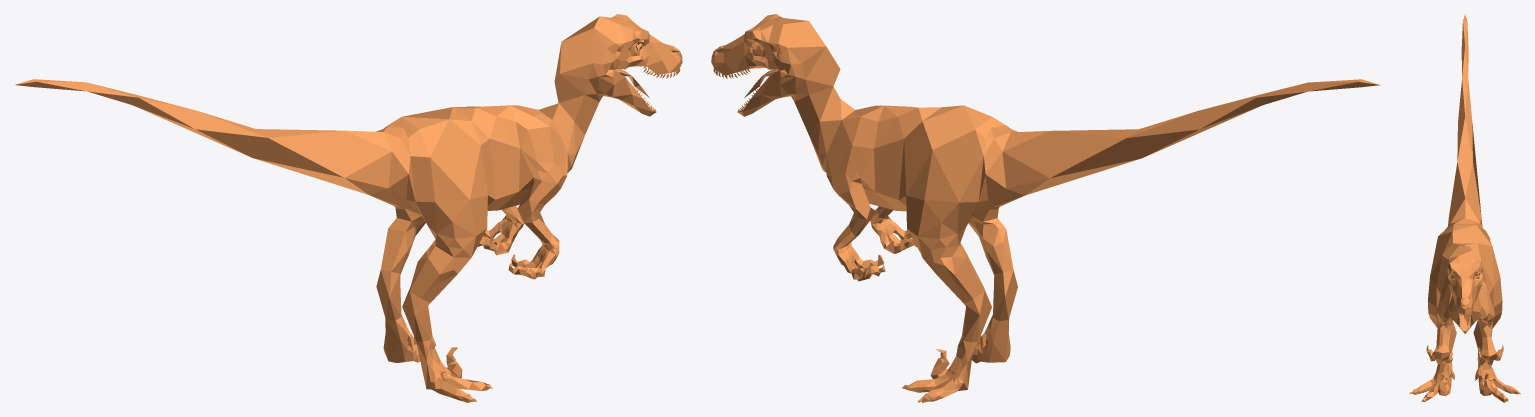
Rendered from raptor.glb.
3 renders of one model, left to right at view 1: azimuth 30°, elevation 25°; view 2: azimuth 150°, elevation 25°; view 3: azimuth 270°, elevation 25°, orthographic. The views are drawn at different scales.
Visible parts, largest first — view 1: Cube.012; view 2: Cube.012; view 3: Cube.012.
Boxes of the visible parts, left/top/right/bottom form: Cube.012: left=15, top=14, right=682, bottom=402; Cube.012: left=711, top=14, right=1380, bottom=402; Cube.012: left=1409, top=14, right=1520, bottom=402.
Bounding box in the file's own units: 14.17 × 7.91 × 3.18.
